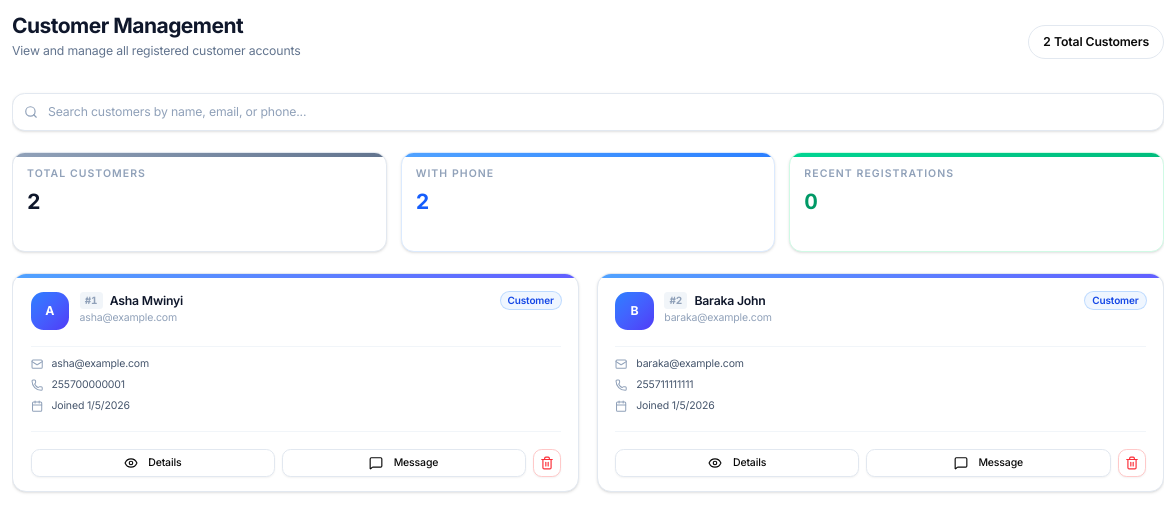
Test case: CustomerManagementTab › search › narrows the list to matching customers by name
This screenshot has width=1176, height=510.
Expected: the heading "Asha Mwinyi" is shown, top-left (110, 293), bottom-right (183, 308)
Type "baraka" into the field with placeholder "Search customers by name, email, or phone..." at point(588, 112), box top-left (12, 92), bottom-right (1164, 131)
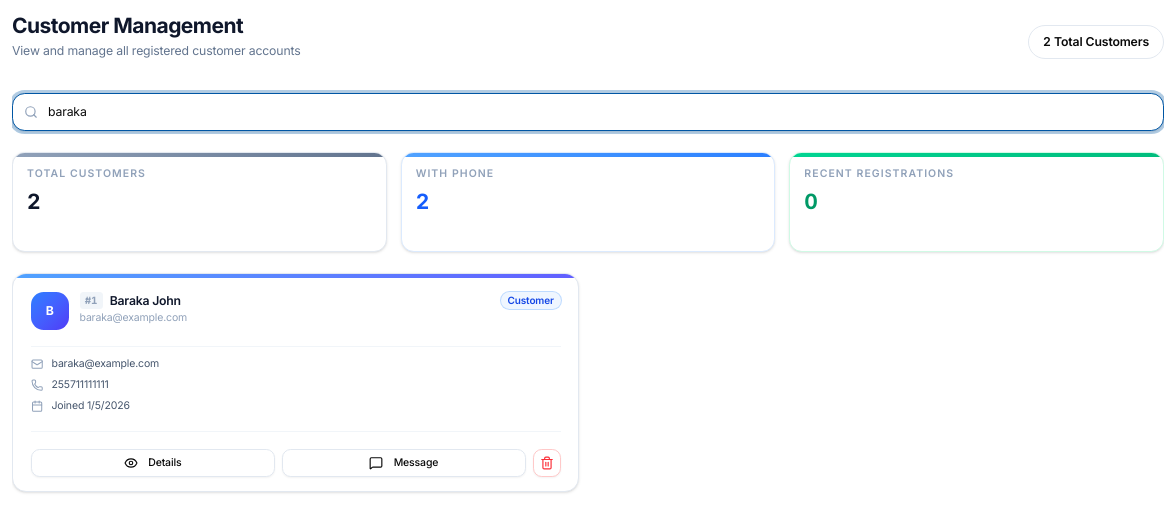
Expected: the heading "Baraka John" is shown, top-left (110, 293), bottom-right (181, 308)
Expected: the heading "Asha Mwinyi" is gone
